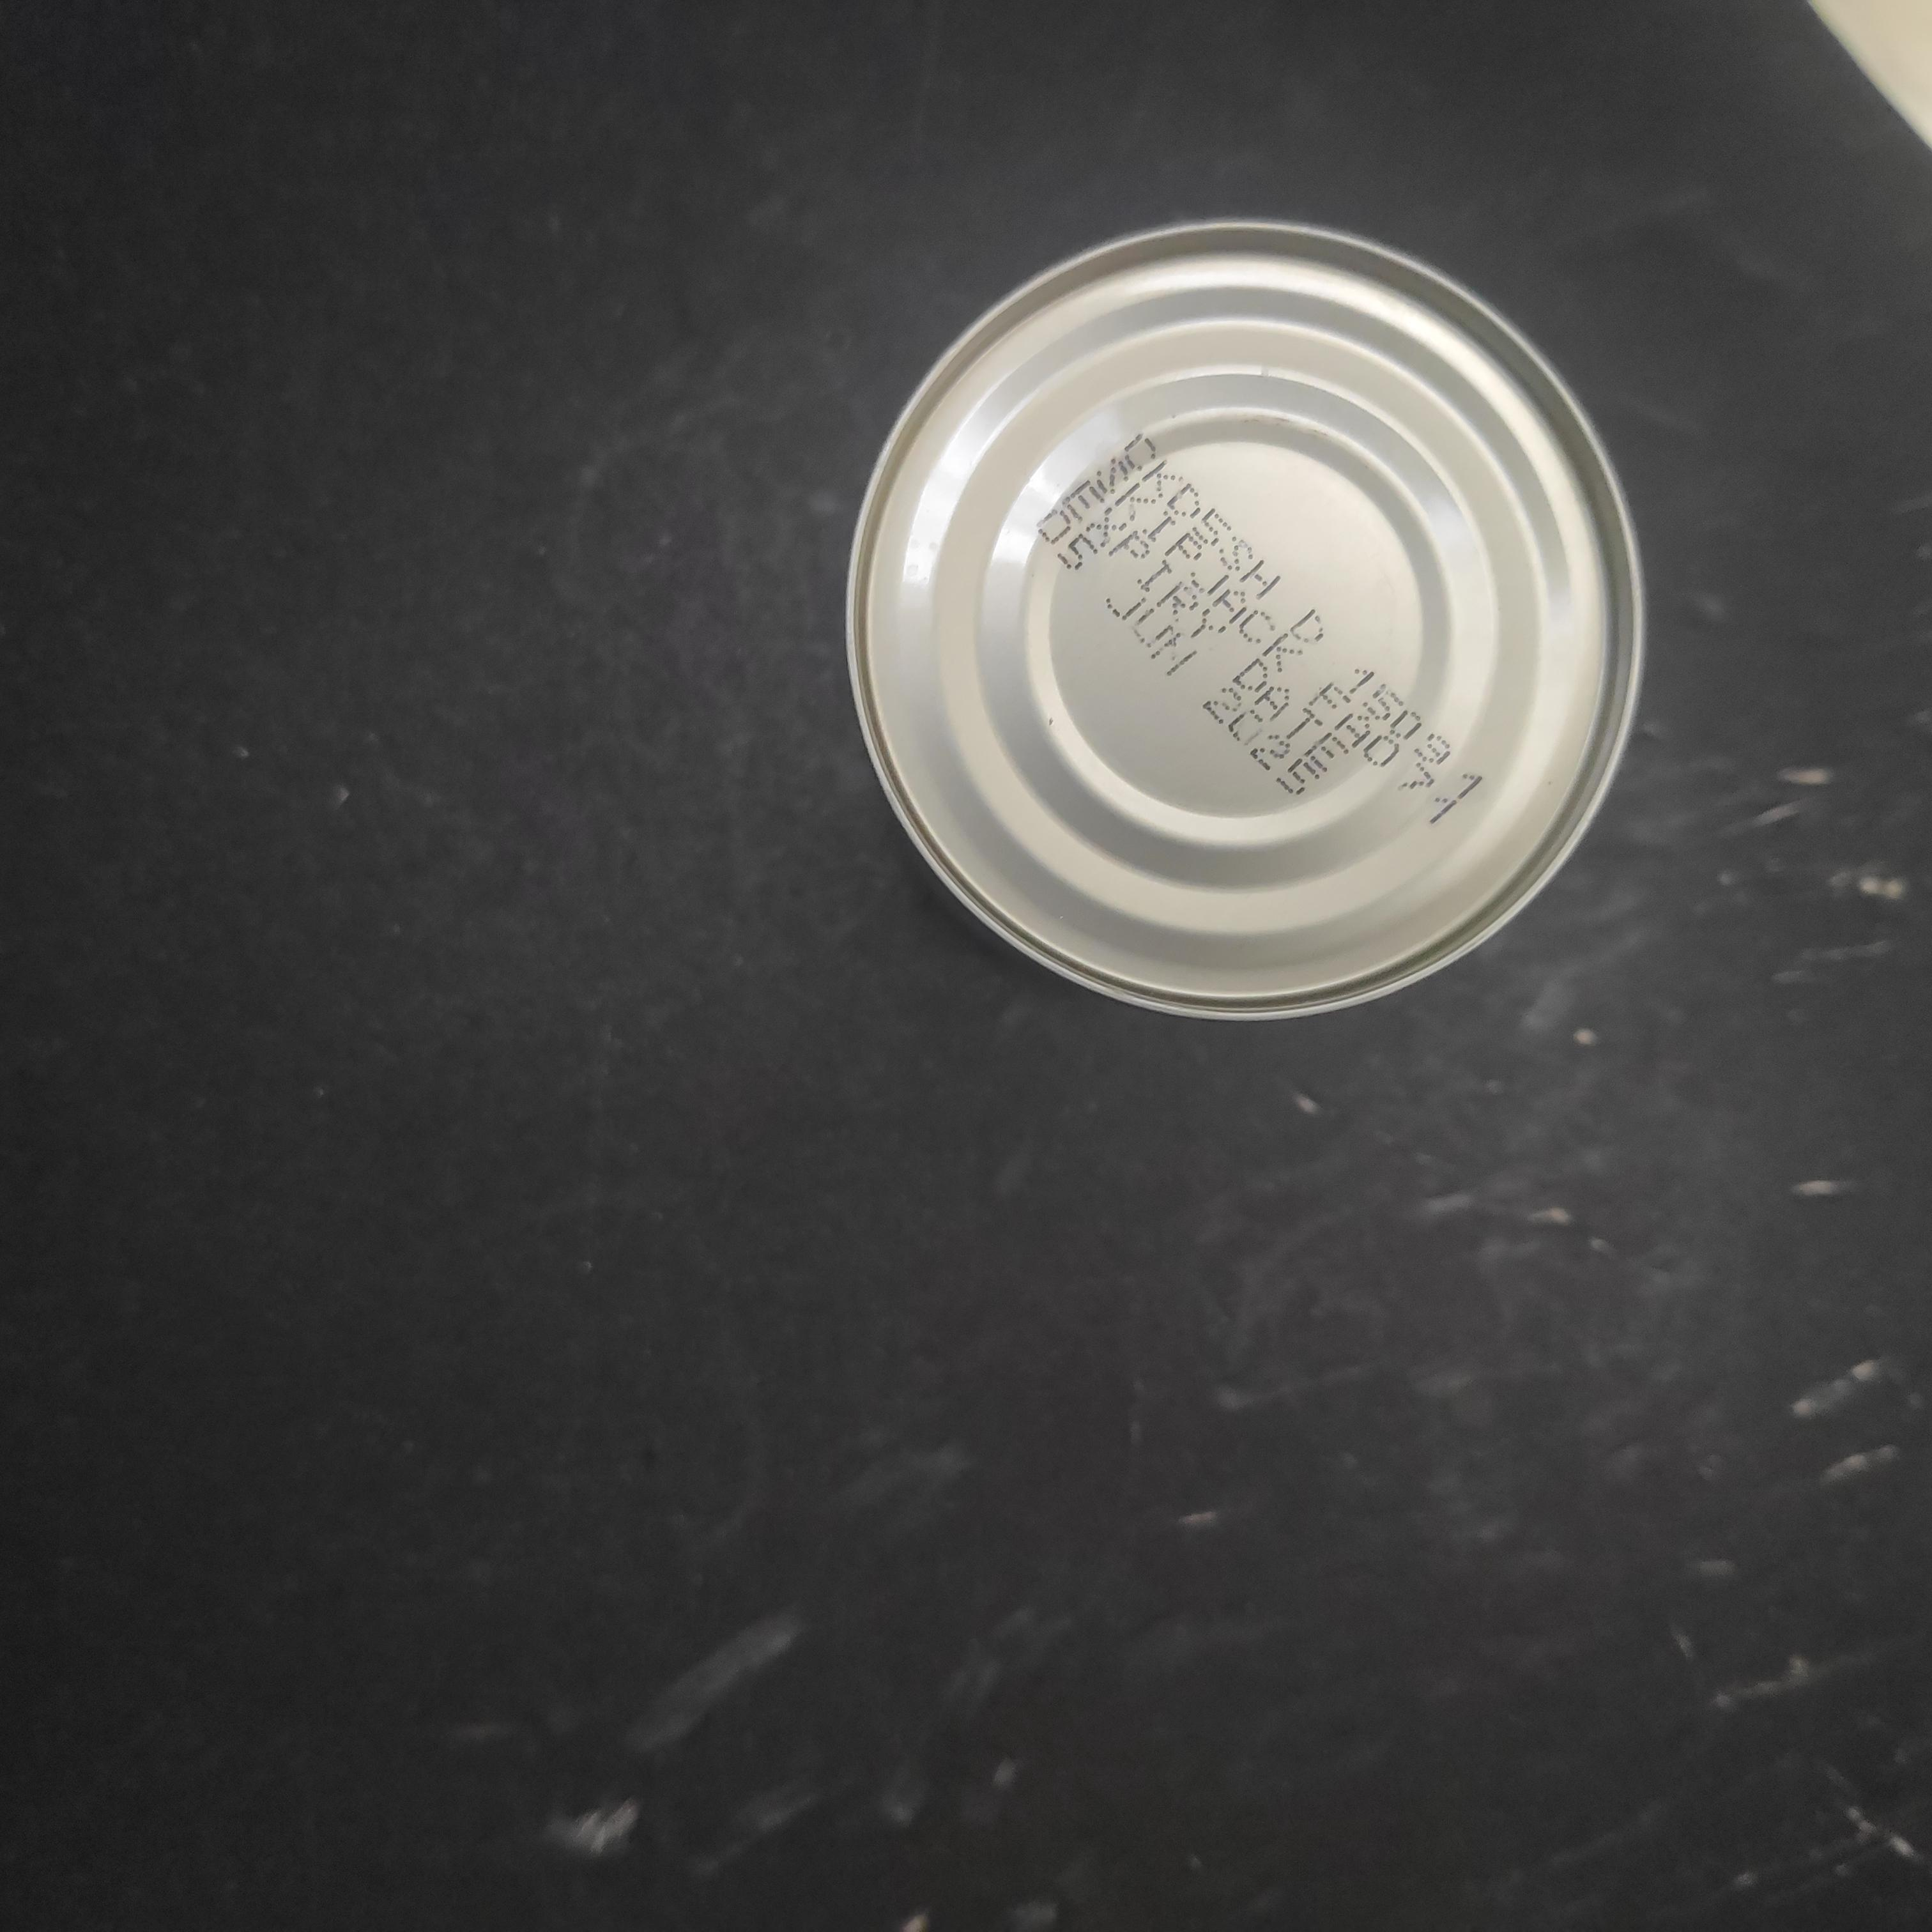No defect: (285, 909, 1092, 1718)
